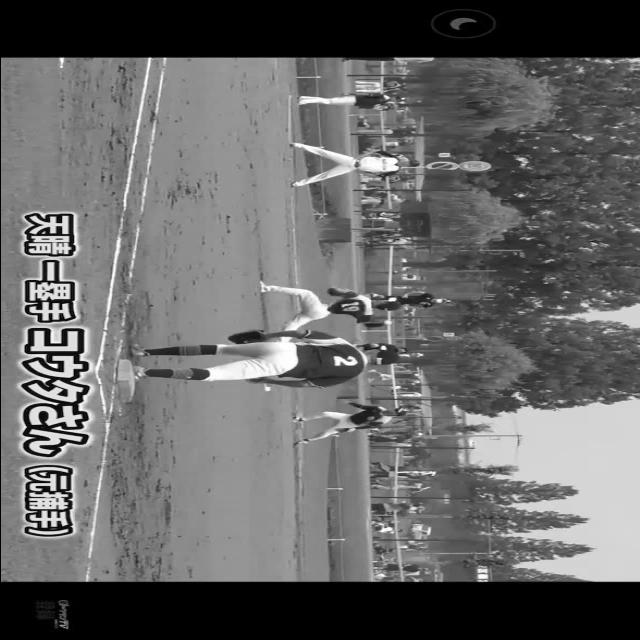base: (118, 360, 132, 404)
baseball: (380, 322, 388, 326)
baseball_glove: (226, 328, 274, 346)
shoe: (132, 343, 146, 358), (131, 366, 141, 384), (258, 282, 268, 294)
